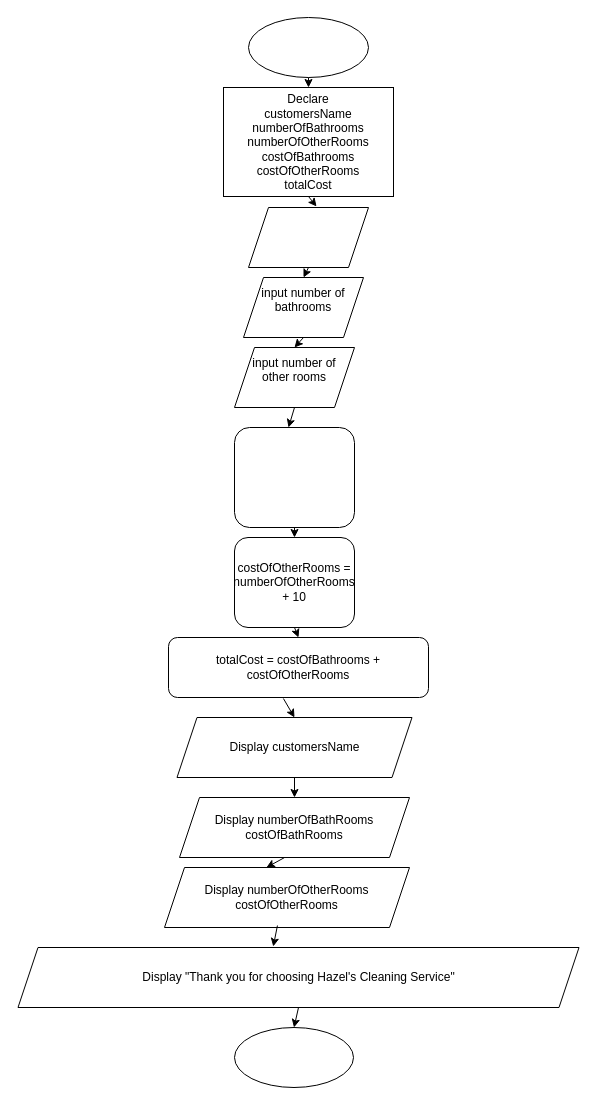
The diagram is 596 pixels wide and 1105 high, and some of its shapes have lost their labels. Here are the shapes that lost their labels. From the top down, the centre of each, then its label:
(x=308, y=47): start
(x=308, y=237): input customers last name
(x=294, y=477): costOfBathrooms = numberOfBathrooms + 15
(x=294, y=1057): end
